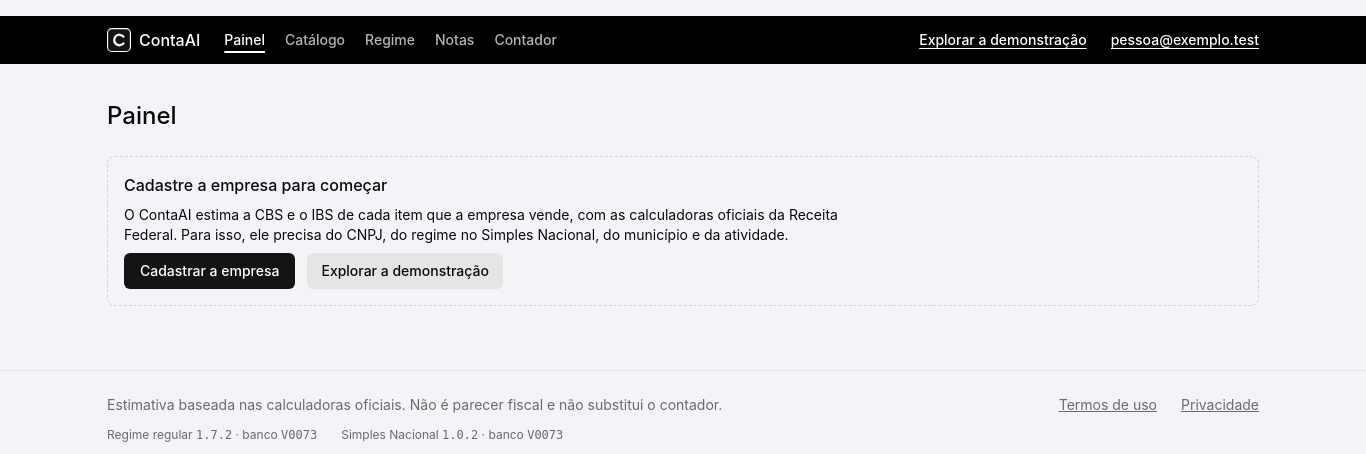
Test: conta conectada (C2a) › ver a demonstração: os pedidos de dados saem sem o cookie, e a faixa volta à conta
The width and height of the screenshot is (1366, 454).
(page scrolled)
Click the link "Explorar a demonstração" next to "Cadastrar a empresa".
click(405, 271)  # box [307, 253, 503, 289]
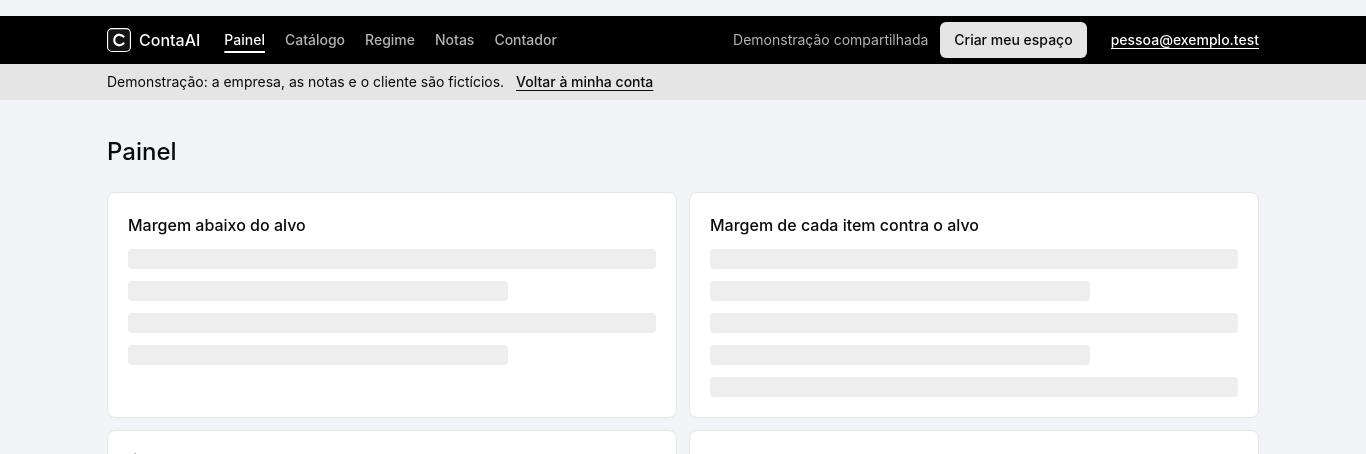
Now the text "Demonstração: a empresa, as notas e o cliente são fictícios." is shown, box [107, 72, 504, 92]
Click the link "Voltar à minha conta".
click(585, 82)  # box [516, 72, 653, 92]
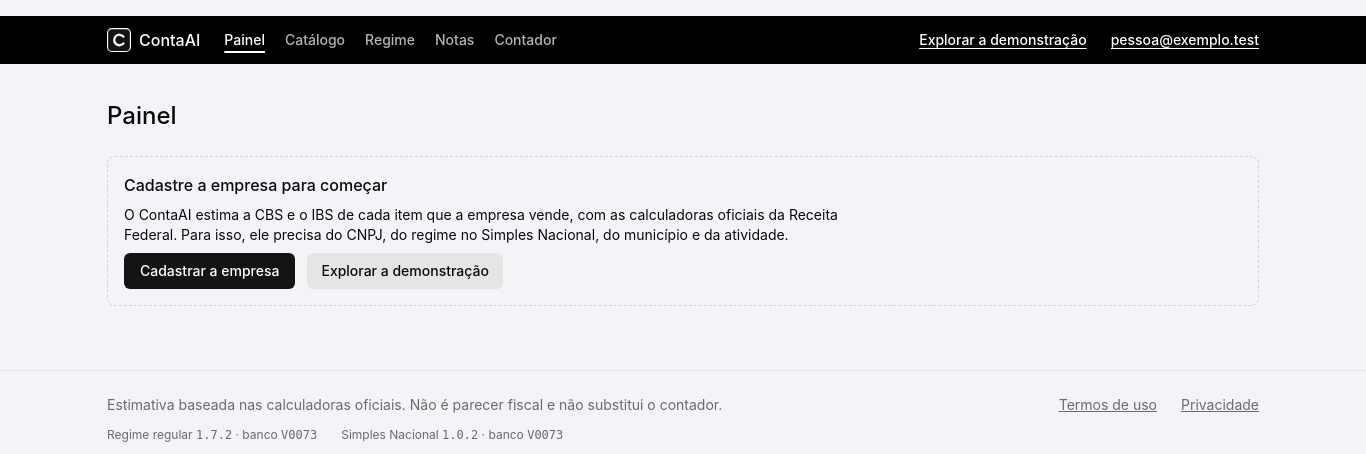
Now the heading "Cadastre a empresa para começar" is shown, box [124, 173, 387, 197]
